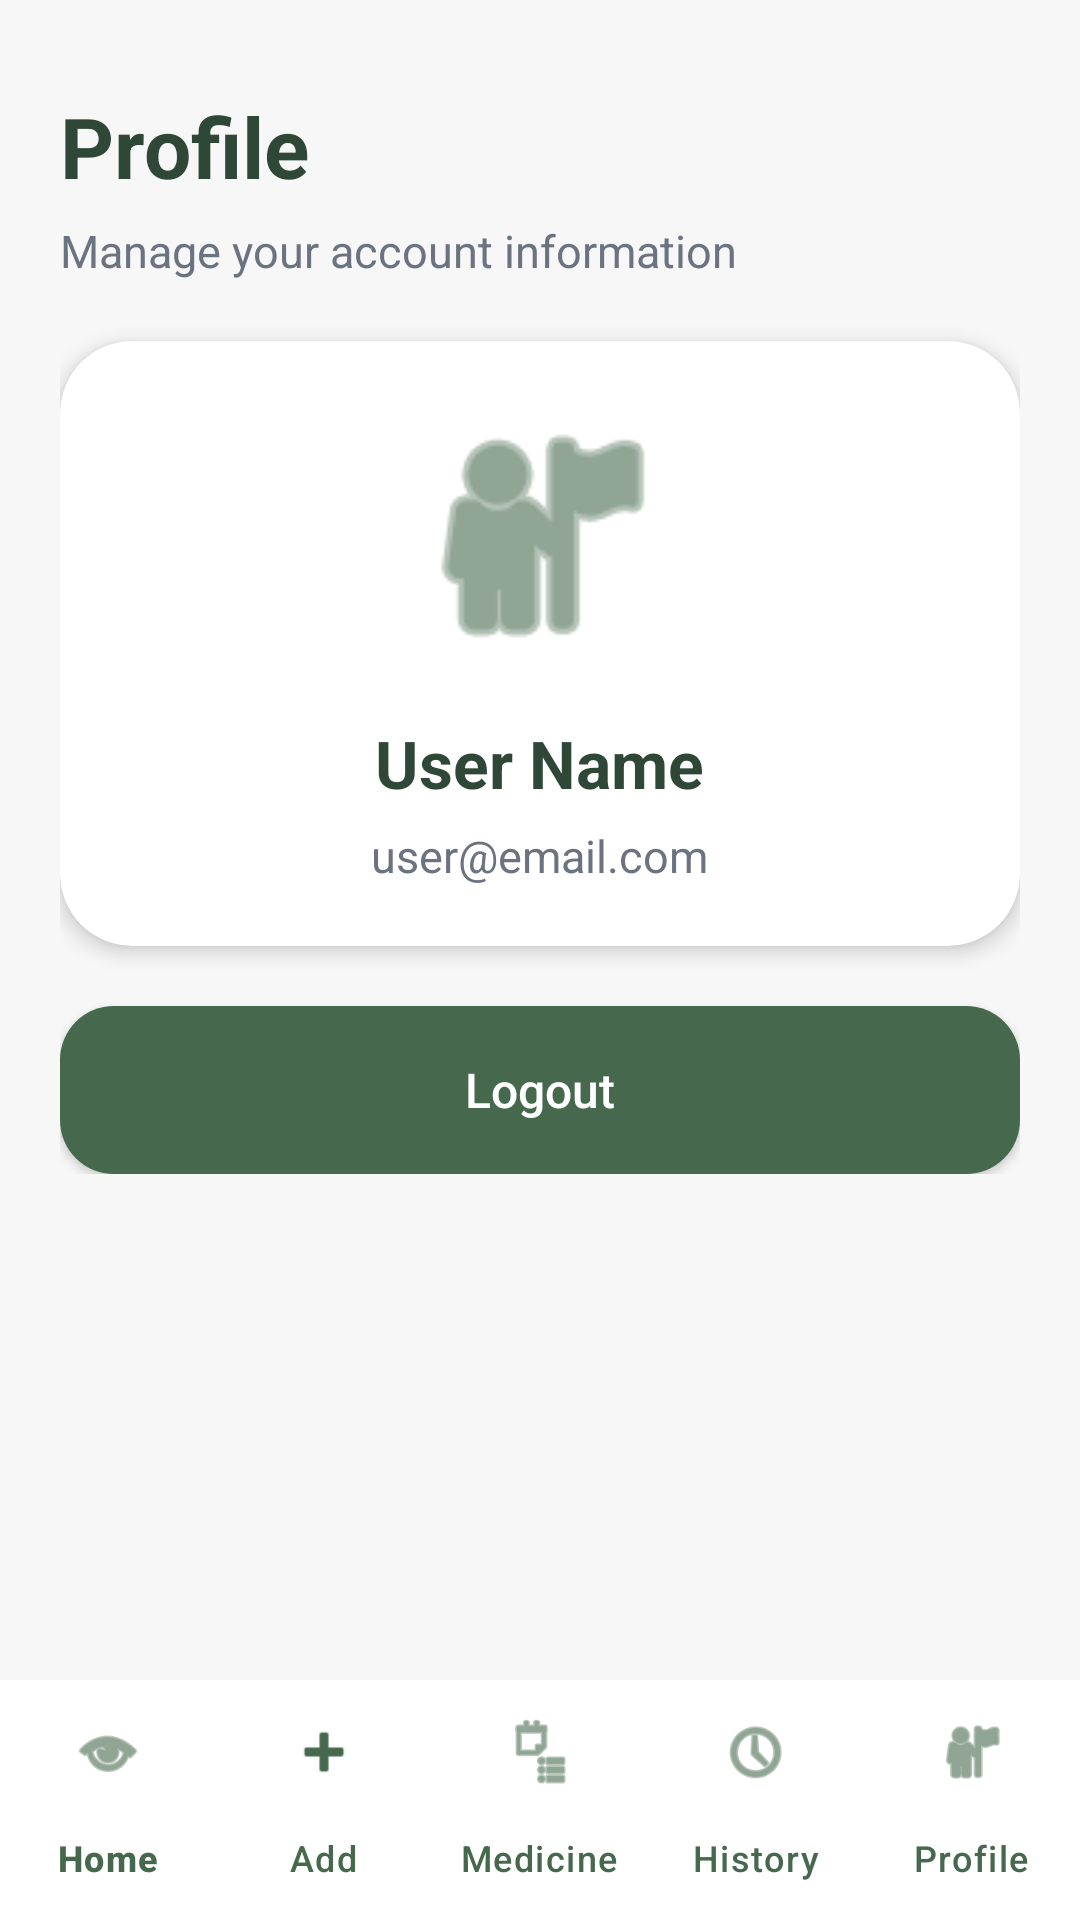

Icon bounding boxes for this 1080*1920 phone screenshot, format {"left": x1, "top": y1, "right": x2, "bottom": y2}:
Profile Icon: {"left": 441, "top": 435, "right": 644, "bottom": 637}
